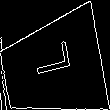L_W: (30, 47, 75, 88)
